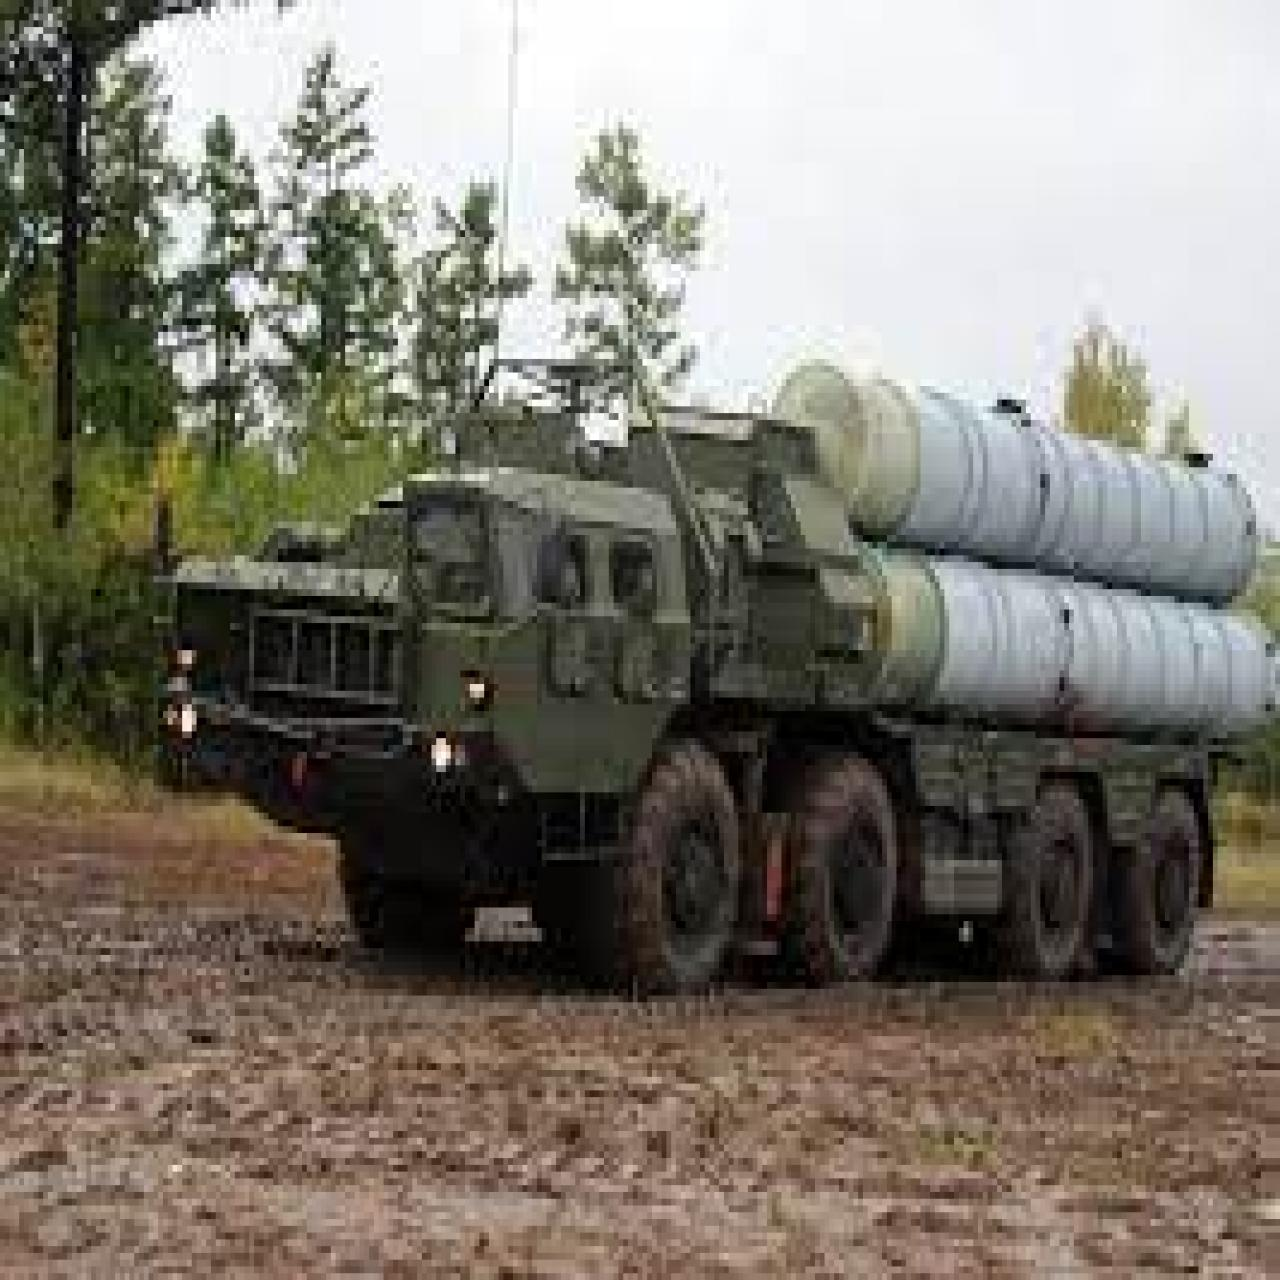MIL_Veh: (171, 355, 1280, 991)
